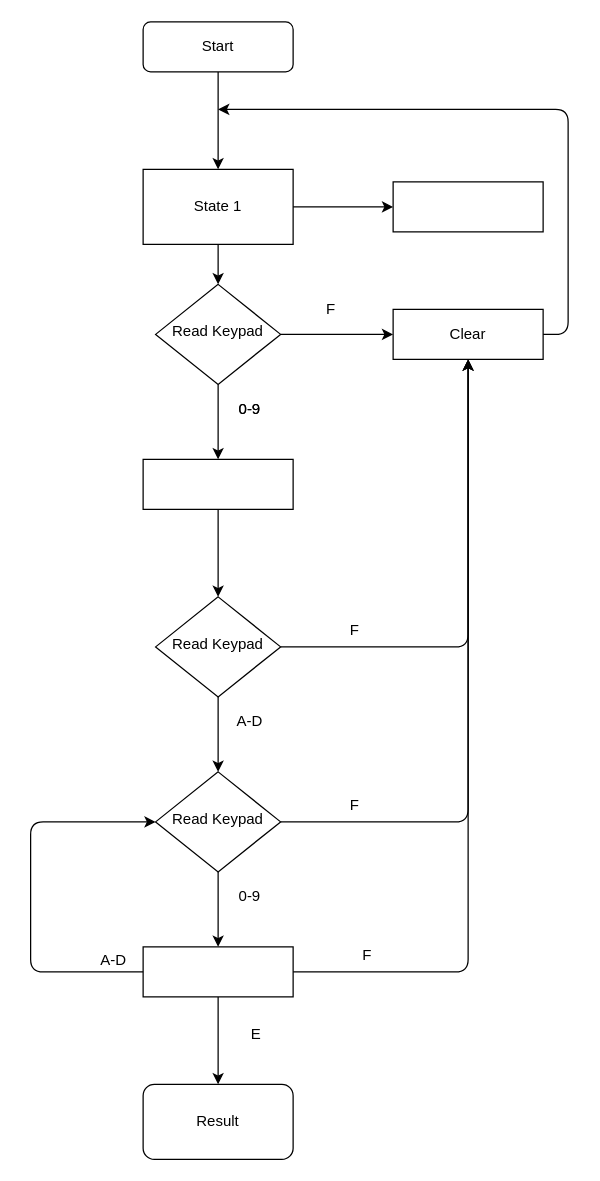
The diagram is 600 pixels wide and 1181 high, and some of its shapes have lost their labels. Each missing label, with the centre of its shape:
"Entry value 1 into LED" goes at pixel 217 483.
"Entry value 2 into LED" goes at pixel 217 971.
"Plug in lamp" goes at pixel 467 206.
